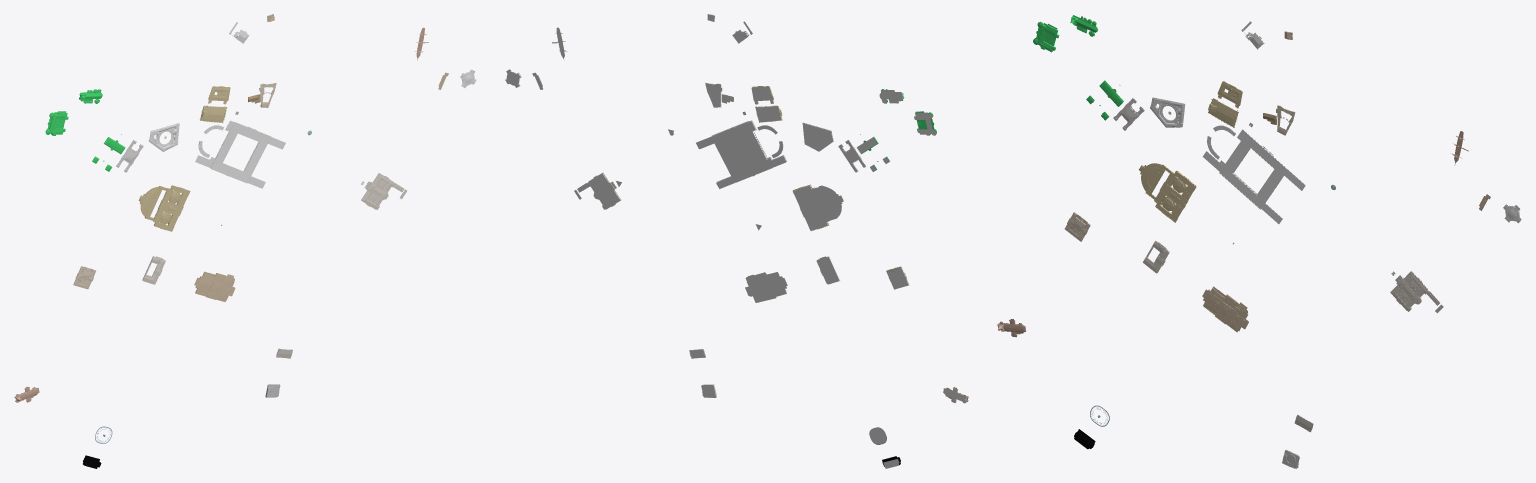
The picture shows the model from 3 angles, left to right: view 1: azimuth 30°, elevation 25°; view 2: azimuth 150°, elevation 25°; view 3: azimuth 330°, elevation 25°; orthographic projection. The views are drawn at different scales.
Bounding box in the file's own units: 8164 × 6969 × 96.
